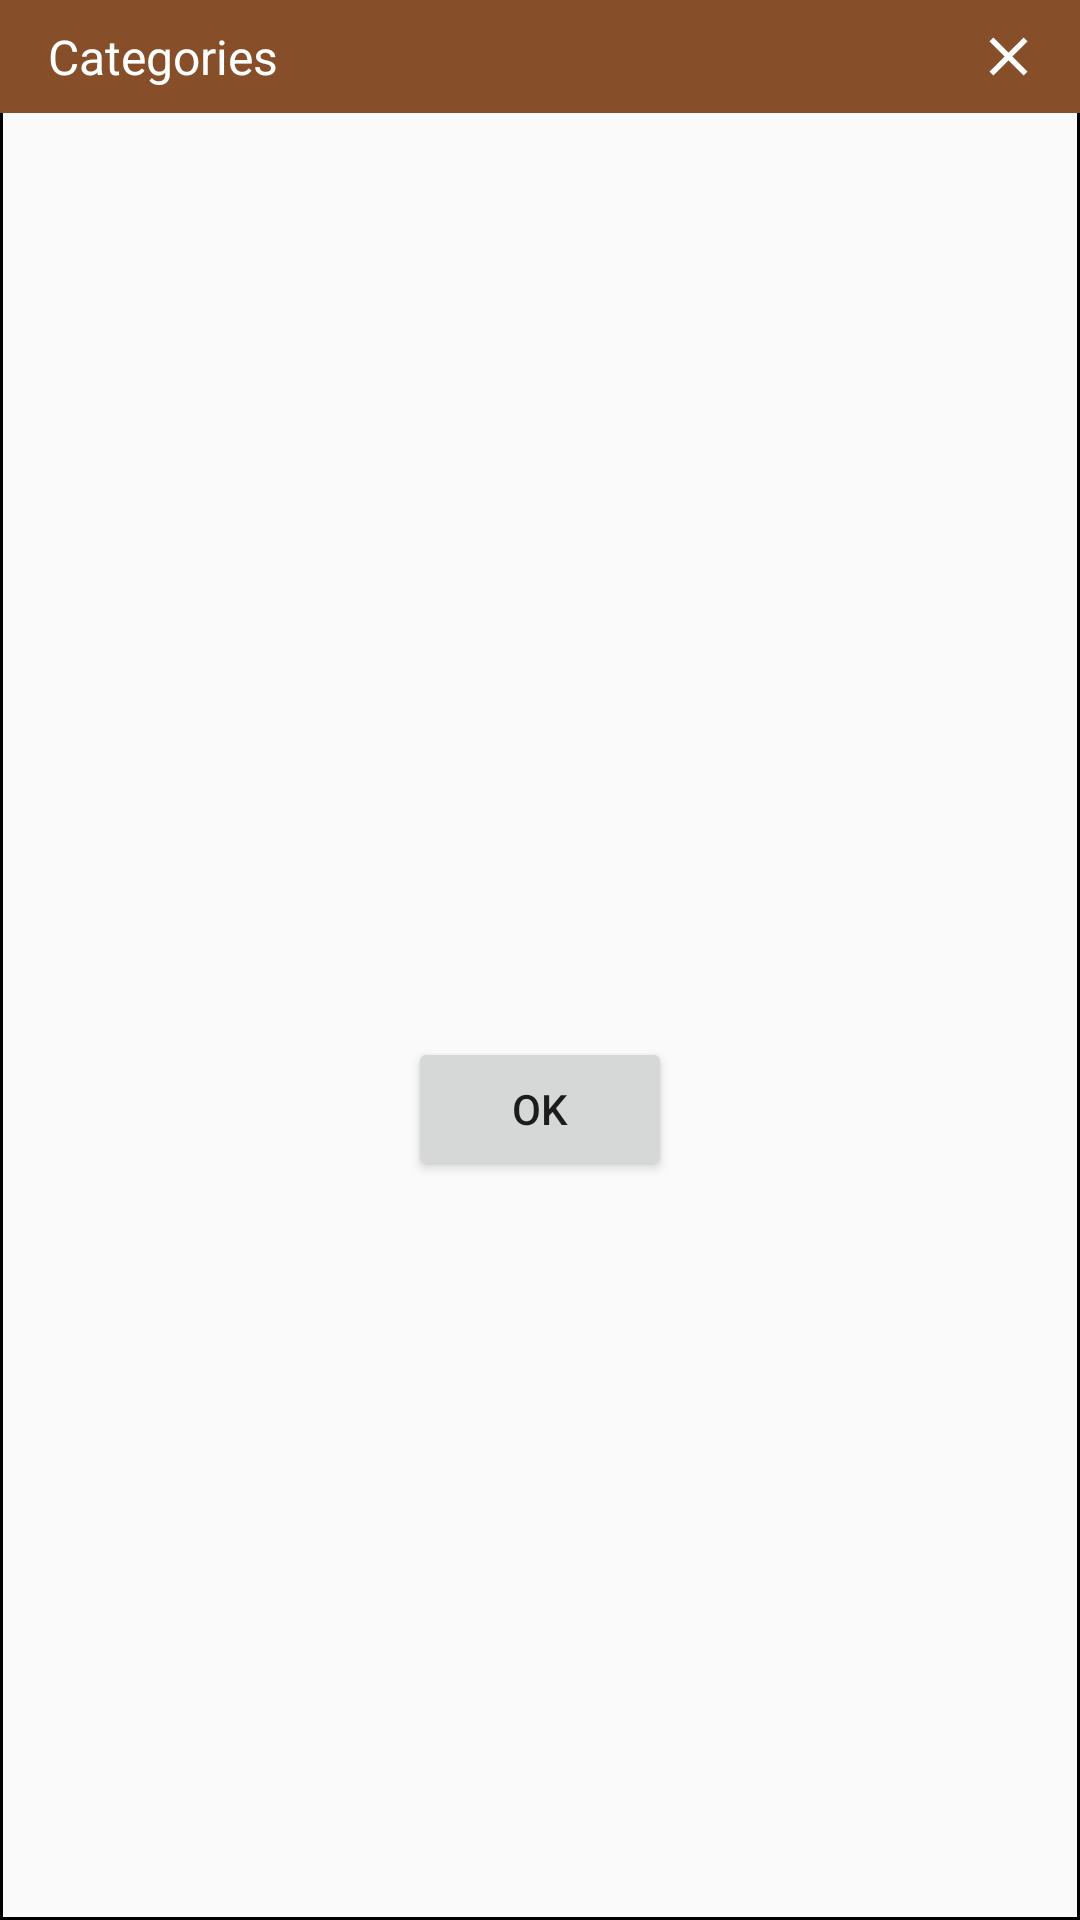

Named icons in this screenshot (1080 x 1920) and their centers, point (x, y):
clear: point (1008, 56)
